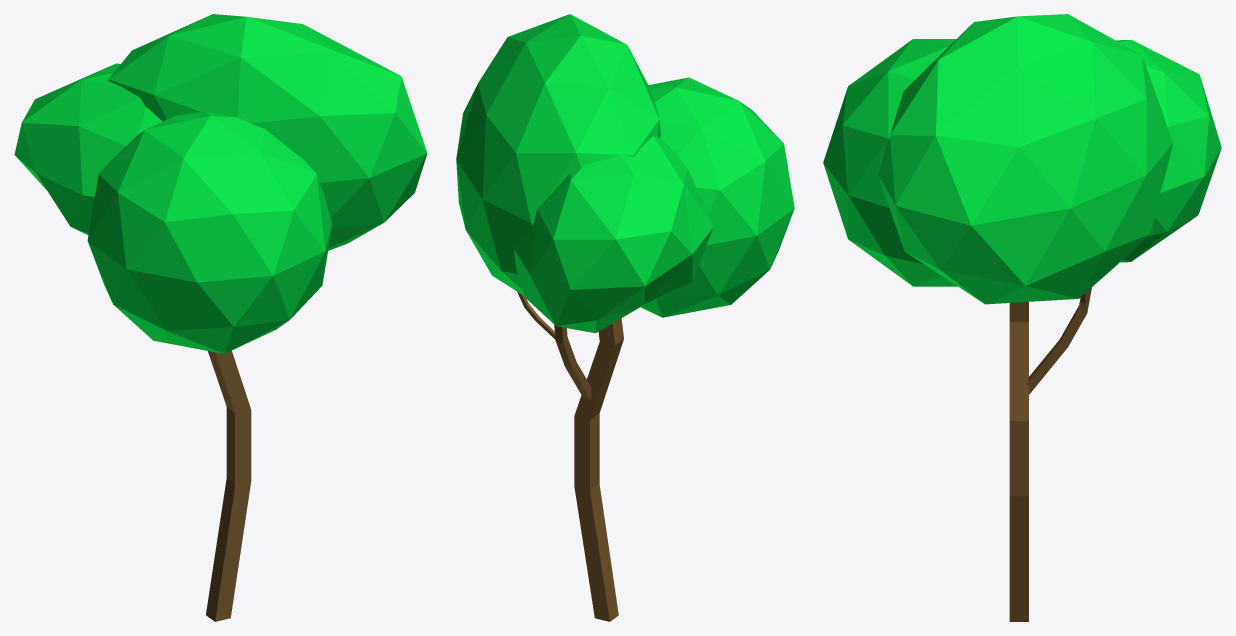
File: tree.glb
3 views of the same model, side by side, from view 1: azimuth 30°, elevation 25°; view 2: azimuth 150°, elevation 25°; view 3: azimuth 270°, elevation 25° (orthographic). The views are drawn at different scales.
Parts seen in each view (by area): view 1: Icosphere.001; view 2: Icosphere.001; view 3: Icosphere.001.
Part boxes in pixels (left/top/right/bottom): Icosphere.001: left=14, top=14, right=427, bottom=621; Icosphere.001: left=456, top=14, right=794, bottom=621; Icosphere.001: left=823, top=14, right=1221, bottom=621.
Size of the model in its own units: 2.99 by 5.38 by 3.16.
